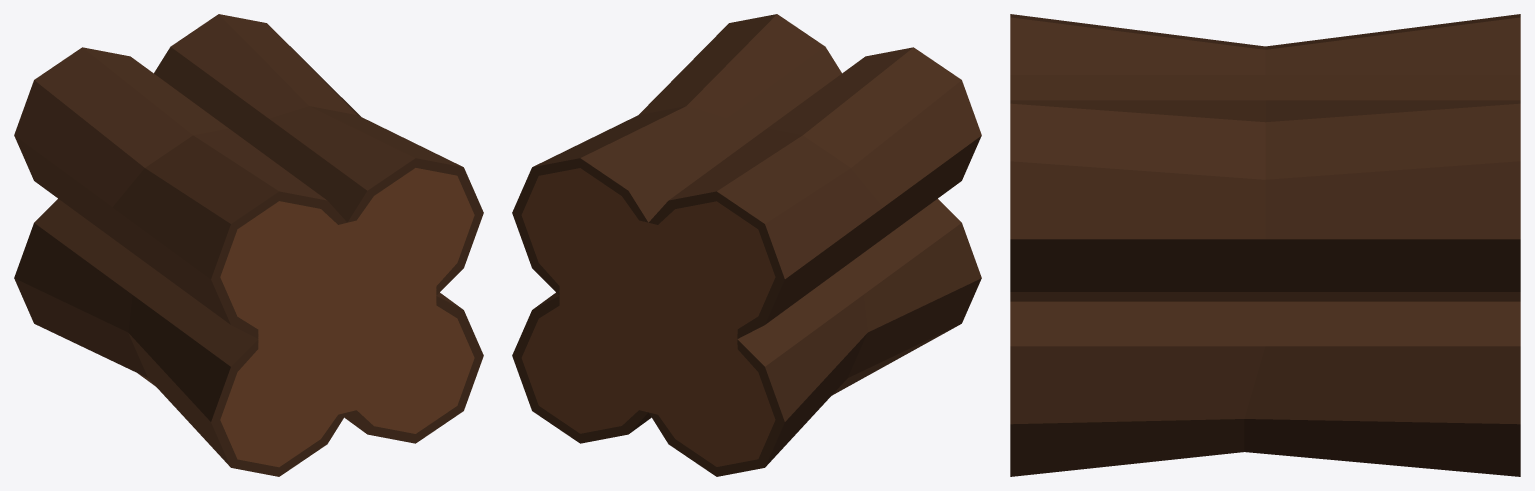
Rendered from Log_6_Dark_Brown.fbx.
The picture shows the model from 3 angles, left to right: view 1: azimuth 30°, elevation 25°; view 2: azimuth 150°, elevation 25°; view 3: azimuth 270°, elevation 25°; orthographic projection. The views are drawn at different scales.
Visible parts, largest first — view 1: Log_6_Dark_Brown; view 2: Log_6_Dark_Brown; view 3: Log_6_Dark_Brown.
Part boxes in pixels (x1,y1,x2,y2): Log_6_Dark_Brown: (14,14,483,476); Log_6_Dark_Brown: (512,14,981,476); Log_6_Dark_Brown: (1010,14,1520,476).
Size of the model in its own units: 160 by 160 by 200.
